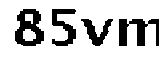5: (50, 5, 78, 50)
8: (14, 6, 48, 54)
m: (115, 13, 160, 52)
v: (81, 15, 113, 47)
